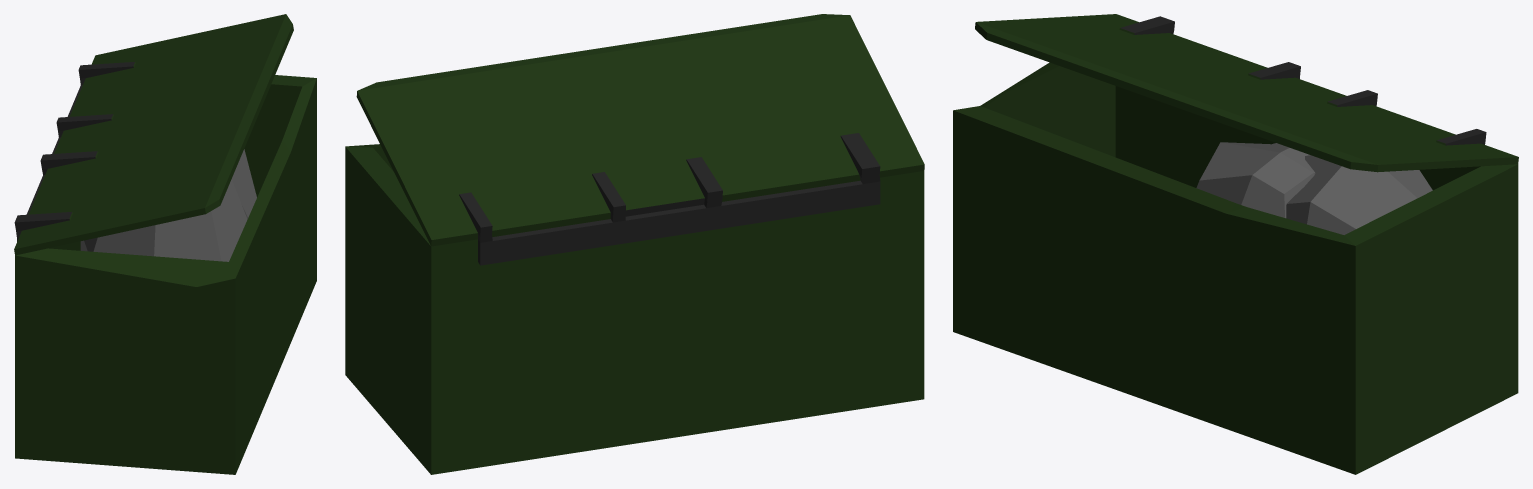
Rendered from ROSKIS.fbx.
3 views of the same model, side by side, from view 1: azimuth 30°, elevation 25°; view 2: azimuth 150°, elevation 25°; view 3: azimuth 270°, elevation 25° (orthographic). The views are drawn at different scales.
Parts seen in each view (by area): view 1: TELTTAA.009; view 2: TELTTAA.009; view 3: TELTTAA.009.
Part boxes in pixels (<box>): TELTTAA.009: <box>14,14,316,474</box>; TELTTAA.009: <box>345,14,924,474</box>; TELTTAA.009: <box>953,14,1518,474</box>.
Bounding box in the file's own units: 422 × 261 × 448.
